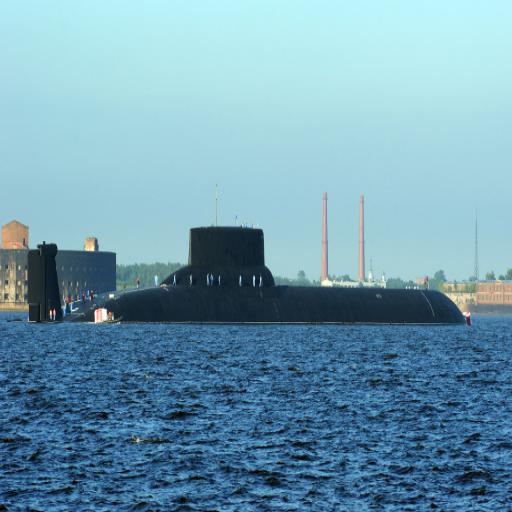submarine: (28, 227, 464, 323)
